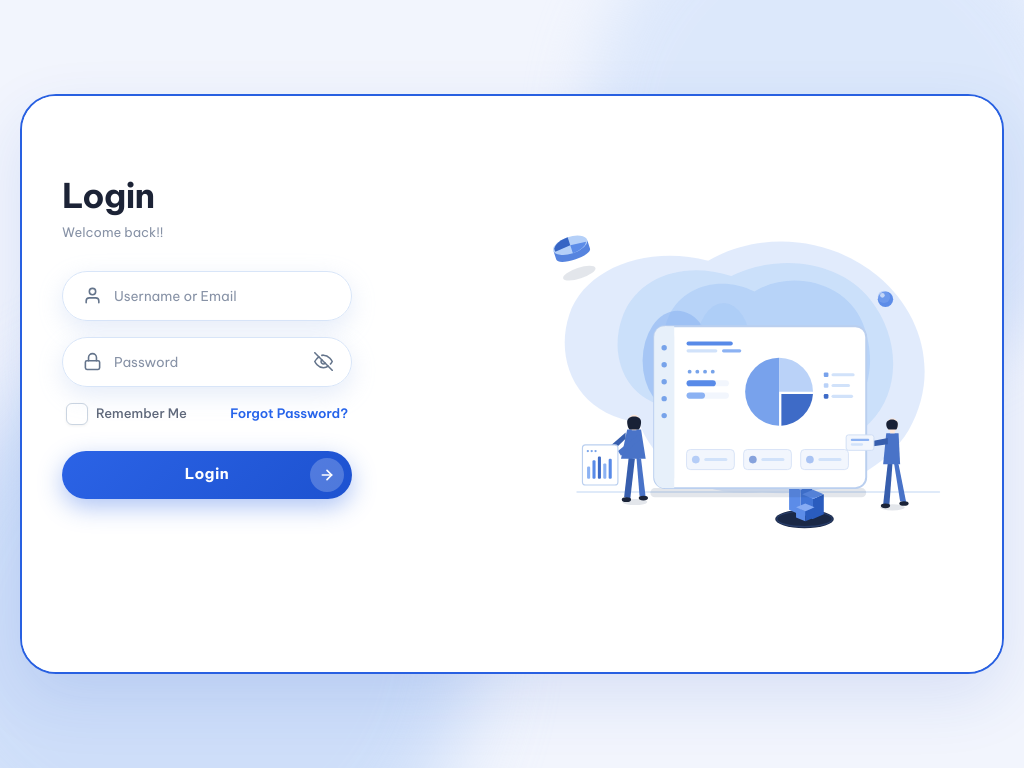
đăng nhập › sai thông tin hiện detail.message của lỗi
Type "admin.vh" into the field named "Tên đăng nhập" at point(226, 296), box [102, 272, 351, 320]
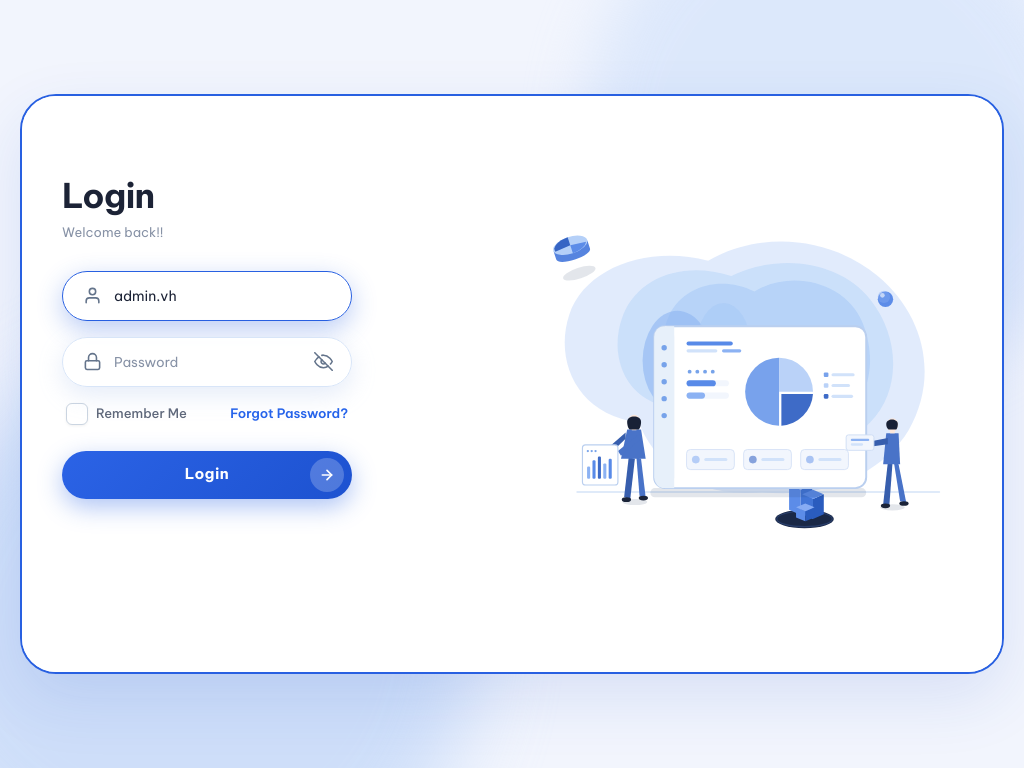
Type "sai" into the password field named "Mật khẩu" at point(226, 362), box [102, 338, 351, 386]
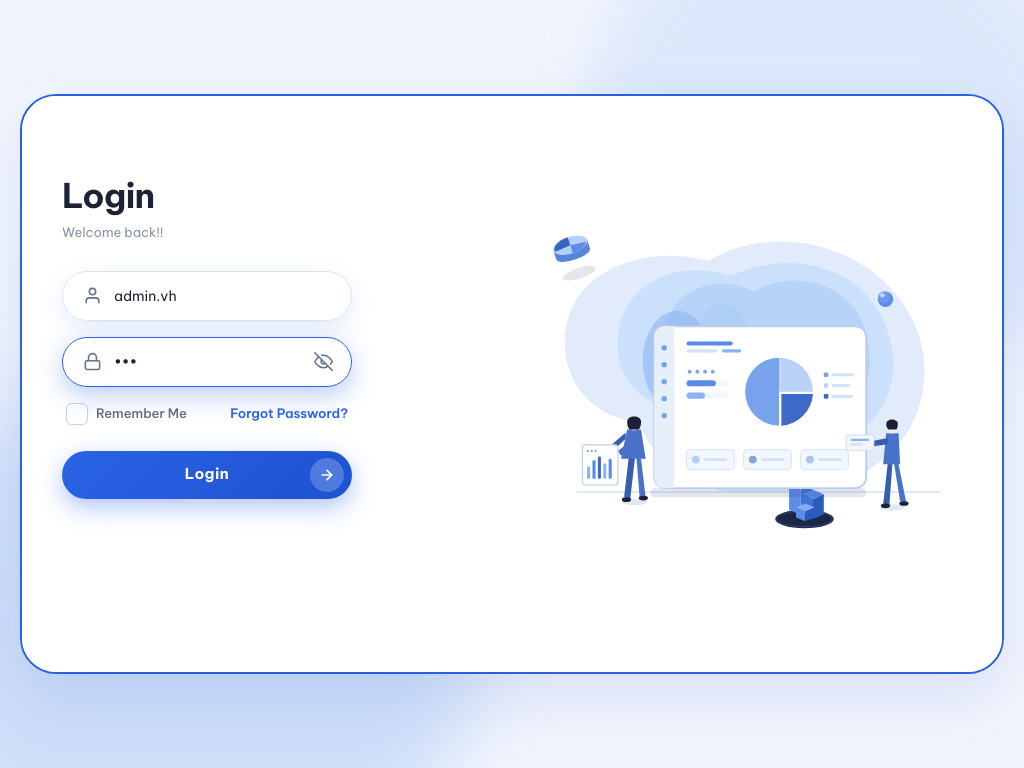
Click the button with aria-label "Đăng nhập" at point(207, 475), box [62, 451, 352, 499]
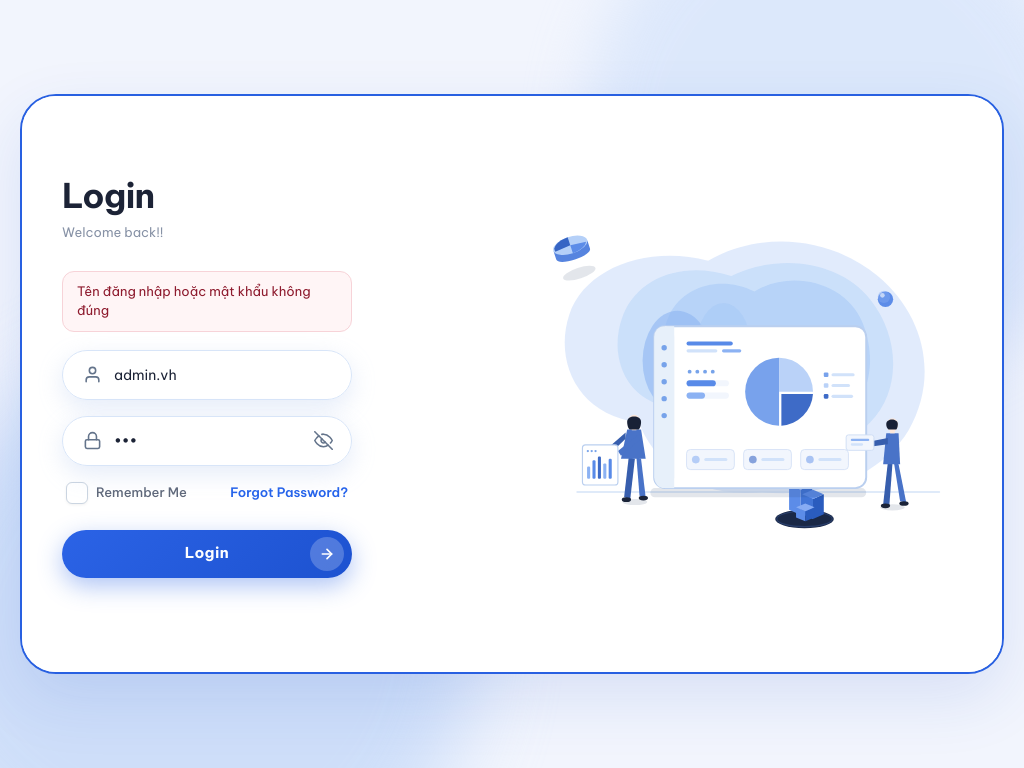
Result: the message reads "Tên đăng nhập hoặc mật khẩu không đúng" at [77, 283, 310, 318]
